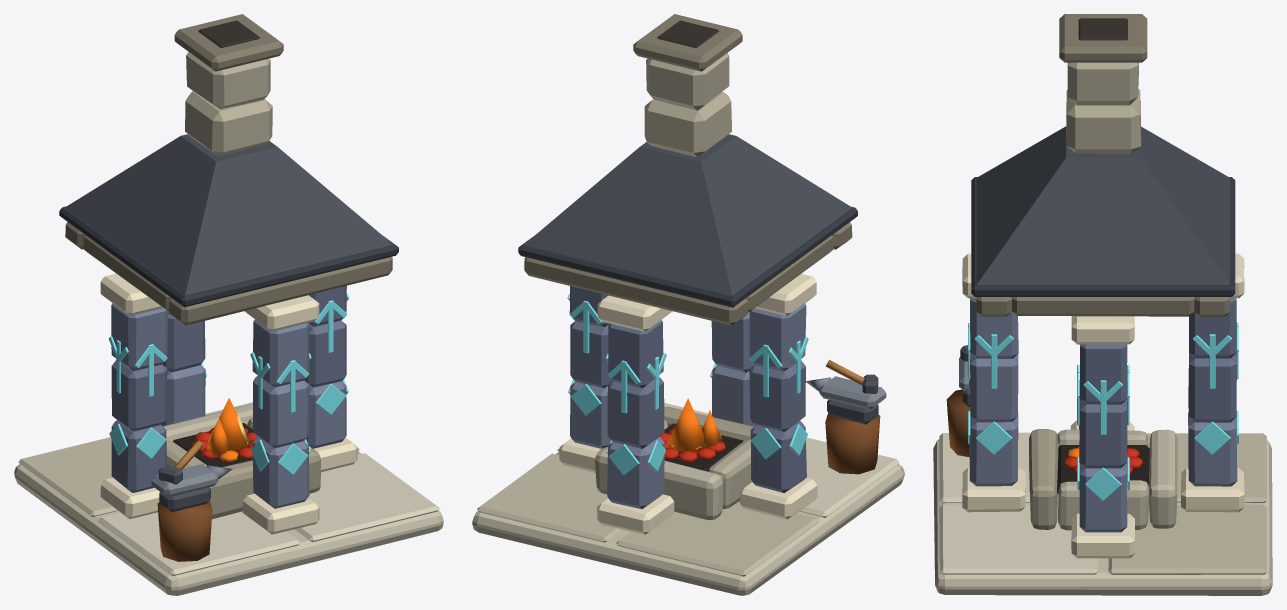
The model's file is forgemagie2.glb.
3 renders of one model, left to right at view 1: azimuth 30°, elevation 25°; view 2: azimuth 150°, elevation 25°; view 3: azimuth 270°, elevation 25°, orthographic. The views are drawn at different scales.
Parts seen in each view (by area): view 1: hotte, socle, pave.003, pave.002, pave, linteau, hotte_bord, cheminee, cheminee.001, pilier.001, pilier.010, cheminee_haut (+23 smaller); view 2: hotte, socle, pave, pave.001, hotte_bord, linteau.001, cheminee, foyer.001, cheminee.001, pilier.004, pilier.010, pave.002 (+24 smaller); view 3: hotte, socle, pave.003, pave.001, hotte_bord, cheminee, linteau.002, cheminee_haut, cheminee.001, pilier.004, pilier.007, pilier.001 (+24 smaller).
Part boxes in pixels (x1,y1,x2,y2): hotte: (65, 134, 393, 295); socle: (14, 451, 443, 595); pave.003: (295, 453, 439, 541); pave.002: (98, 511, 300, 575); pave: (18, 437, 117, 516); linteau: (169, 257, 392, 325); hotte_bord: (59, 206, 398, 307); cheminee: (185, 91, 272, 156); cheminee.001: (186, 52, 270, 109); pilier.001: (253, 375, 309, 448); pilier.010: (111, 360, 167, 431); cheminee_haut: (174, 14, 283, 71); hotte: (523, 134, 852, 295); socle: (472, 452, 904, 595); pave: (616, 501, 818, 576); pave.001: (477, 453, 621, 542); hotte_bord: (518, 206, 857, 307); linteau.001: (524, 257, 748, 325); cheminee: (644, 92, 731, 157); foyer.001: (595, 447, 723, 519); cheminee.001: (646, 53, 729, 110); pilier.004: (607, 377, 664, 448); pilier.010: (749, 360, 805, 431); pave.002: (799, 437, 899, 517); hotte: (976, 126, 1229, 284); socle: (933, 439, 1272, 595); pave.003: (939, 504, 1097, 574); pave.001: (1108, 504, 1266, 574); hotte_bord: (971, 177, 1235, 296); cheminee: (1066, 89, 1141, 154); linteau.002: (1011, 297, 1194, 316); cheminee_haut: (1059, 14, 1147, 62); cheminee.001: (1067, 62, 1138, 105); pilier.004: (1188, 353, 1236, 422); pilier.007: (1079, 399, 1127, 468); pilier.001: (970, 353, 1018, 422).
Size of the model in its own units: 1.93 by 3.14 by 1.93.
